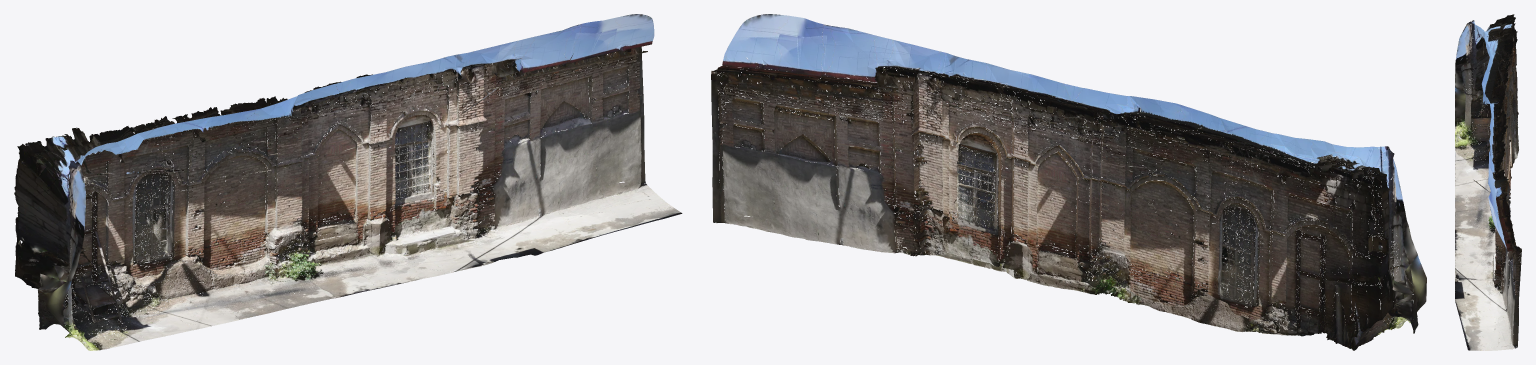
Rendered from preview.glb.
3 renders of one model, left to right at view 1: azimuth 30°, elevation 25°; view 2: azimuth 150°, elevation 25°; view 3: azimuth 270°, elevation 25°, orthographic. The views are drawn at different scales.
Parts seen in each view (by area): view 1: Kond_-_Facade_Kond_-_Facade_u1_v1_0, Kond_-_Facade_Kond_-_Facade_u2_v1_0; view 2: Kond_-_Facade_Kond_-_Facade_u1_v1_0, Kond_-_Facade_Kond_-_Facade_u2_v1_0; view 3: Kond_-_Facade_Kond_-_Facade_u1_v1_0, Kond_-_Facade_Kond_-_Facade_u2_v1_0.
Part boxes in pixels (<box>): Kond_-_Facade_Kond_-_Facade_u1_v1_0: <box>14,14,671,350</box>; Kond_-_Facade_Kond_-_Facade_u2_v1_0: <box>15,24,682,349</box>; Kond_-_Facade_Kond_-_Facade_u1_v1_0: <box>711,14,1426,350</box>; Kond_-_Facade_Kond_-_Facade_u2_v1_0: <box>712,24,1414,349</box>; Kond_-_Facade_Kond_-_Facade_u1_v1_0: <box>1455,14,1521,350</box>; Kond_-_Facade_Kond_-_Facade_u2_v1_0: <box>1455,18,1521,350</box>.
Bounding box in the file's own units: 16.97 × 5.07 × 2.31.
Materials: 2 (2 with a texture image).
